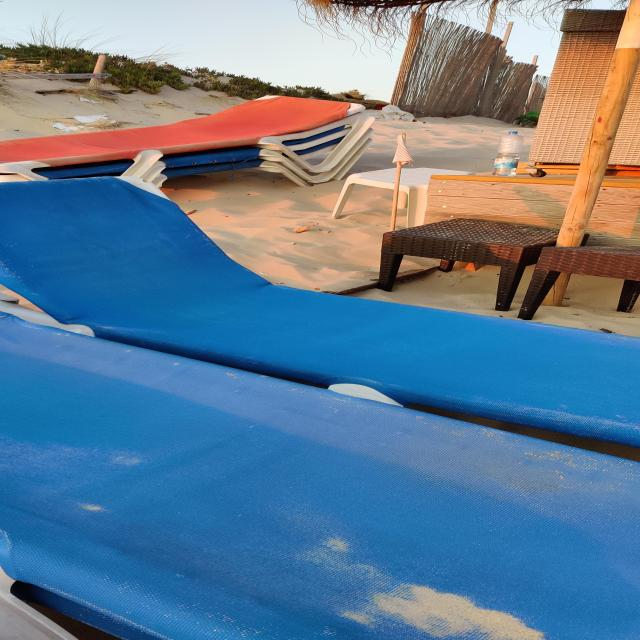litter: (496, 135, 522, 175)
